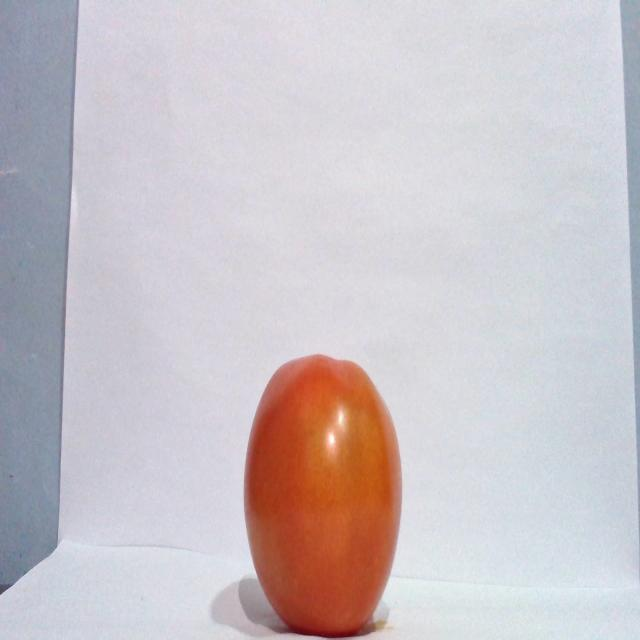Red: (241, 352, 403, 636)
